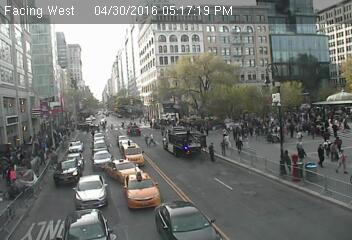neg: (110, 32, 136, 66), (95, 173, 117, 203), (170, 63, 192, 93), (21, 190, 42, 217), (11, 52, 32, 79), (128, 167, 148, 194), (57, 44, 77, 71), (320, 41, 340, 68), (99, 78, 118, 103), (246, 32, 264, 55), (66, 182, 83, 204), (305, 71, 321, 93), (278, 77, 294, 98), (313, 11, 328, 31), (216, 41, 230, 61), (160, 154, 174, 173), (73, 96, 85, 112), (275, 31, 286, 46), (3, 27, 14, 42), (265, 81, 276, 96), (245, 96, 255, 108), (102, 107, 111, 120), (42, 33, 50, 44)
pos: (43, 144, 63, 171), (310, 143, 329, 168), (335, 148, 351, 172), (203, 141, 220, 163), (291, 139, 307, 161), (329, 120, 344, 140), (233, 136, 247, 154), (287, 121, 300, 138), (217, 138, 229, 154), (218, 127, 230, 142), (146, 131, 157, 146), (118, 118, 126, 129)
